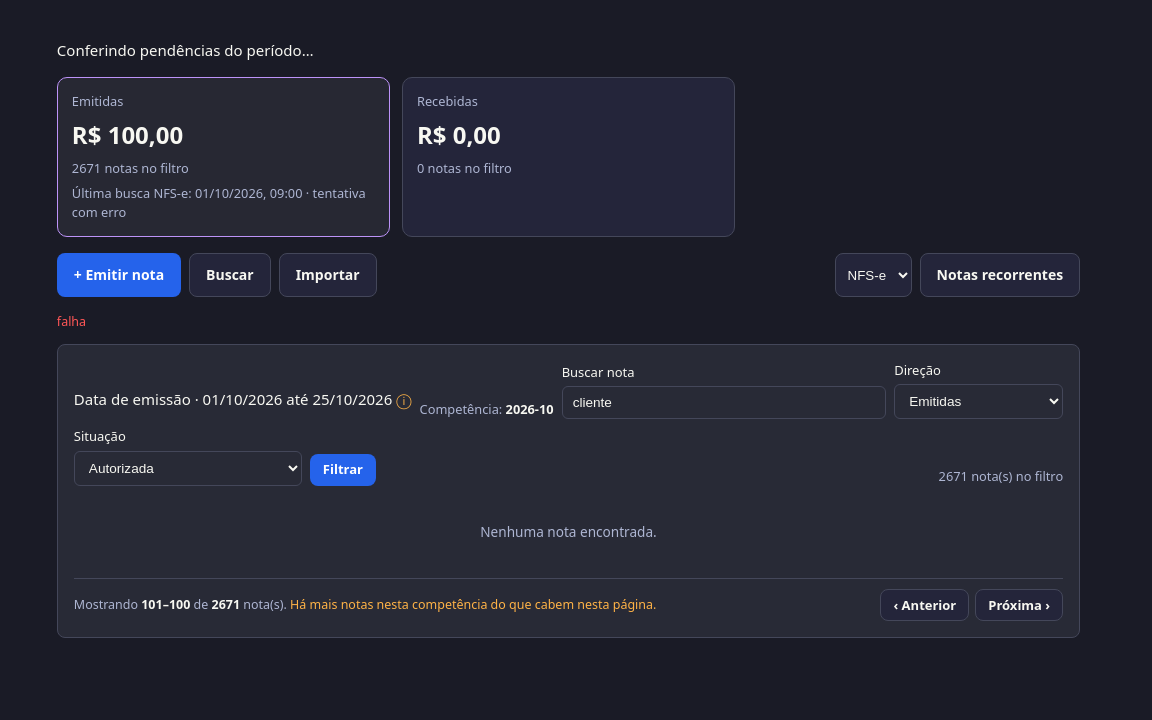
Test: duas áreas e captura somente leitura; trocar ação não altera a lista nem consulta
Expected: the button with aria-label "Buscar NFS-e" reads "Buscar", [189,253,271,297]
Expected: the button "Importar" is shown, [279,253,377,297]
Select "NF-e" in the dropdown named "Tipo para buscar ou importar" at x=873, y=275, box [834,253,912,297]
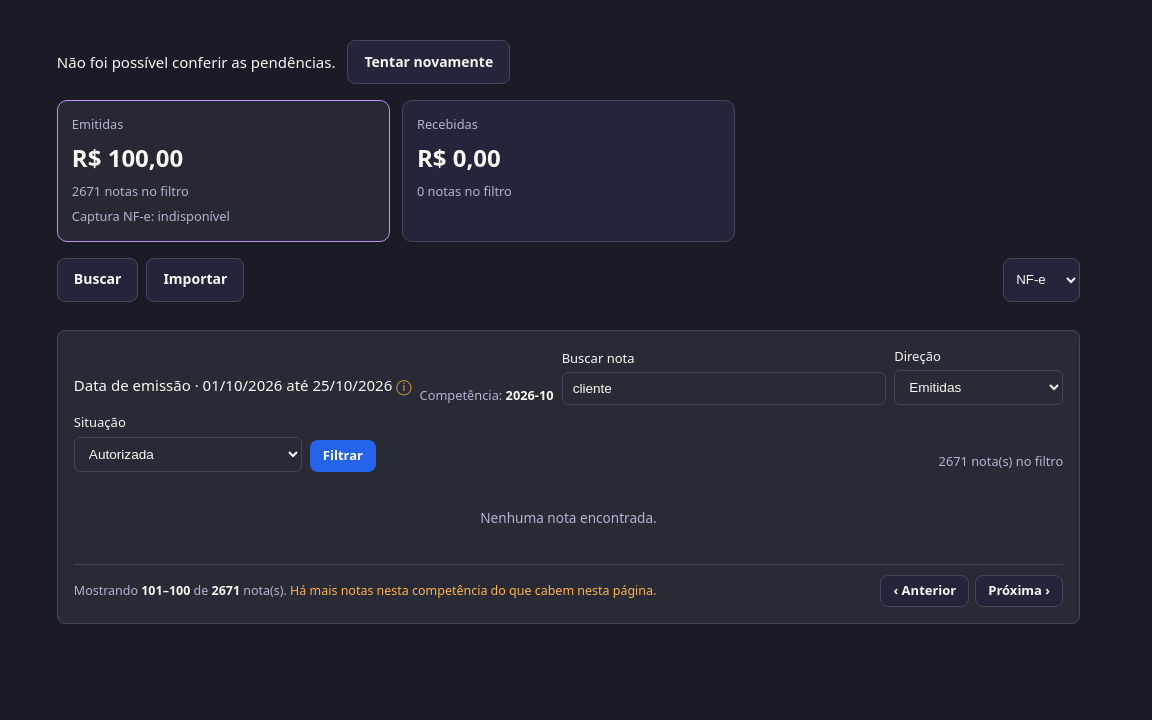
Result: the button "Emitidas" shows "Captura NF-e: indisponível" at [57,100,390,242]
